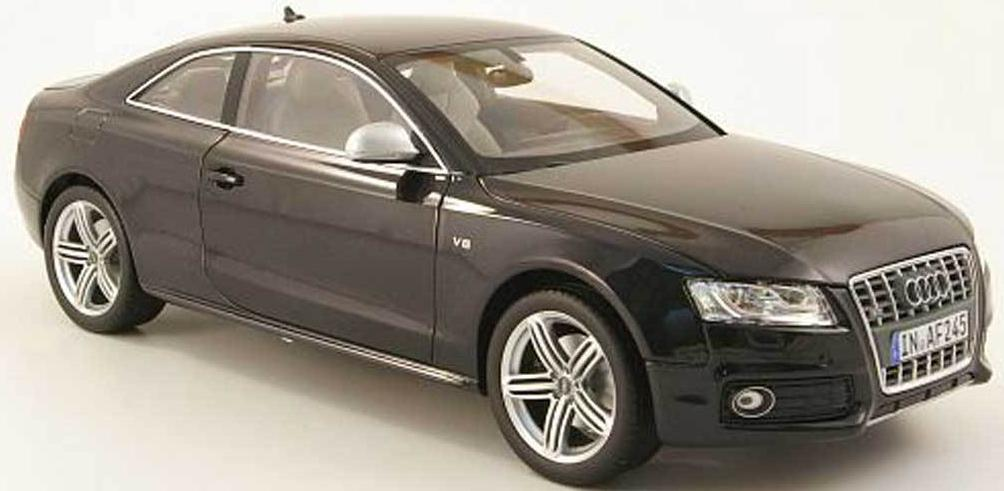front_view: (671, 252, 999, 437)
headlight: (681, 271, 848, 338)
side_glass: (137, 35, 410, 167)
